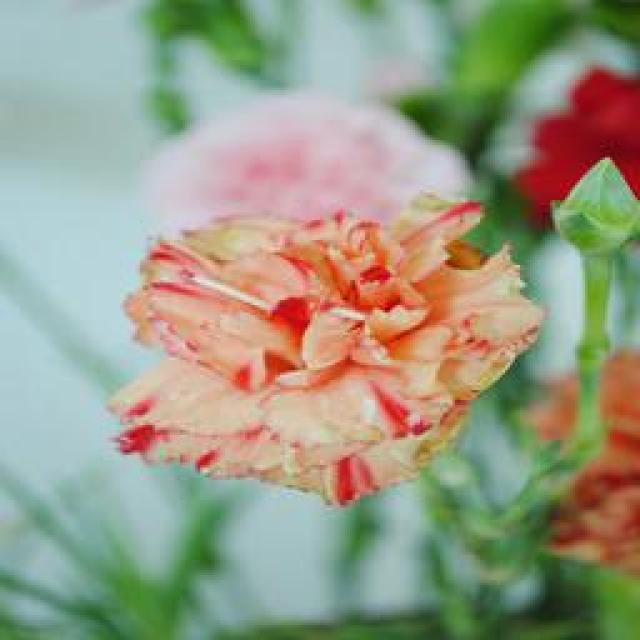carnation: (106, 200, 556, 494)
